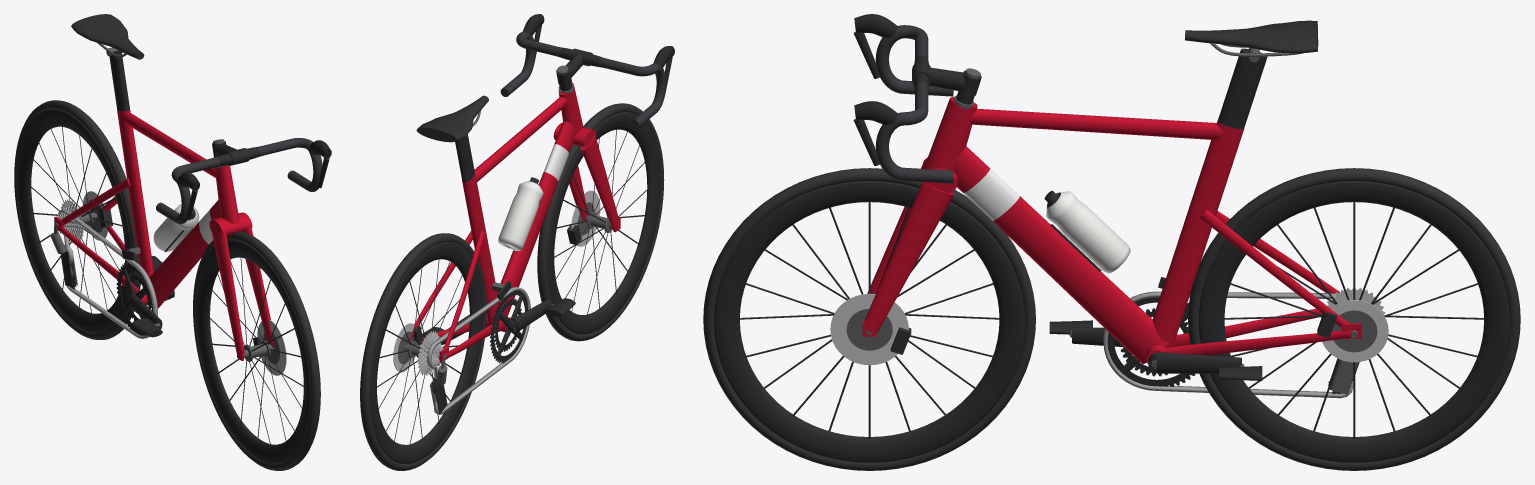
The model's file is Velo_Aero_M.fbx.
3 views of the same model, side by side, from view 1: azimuth 30°, elevation 25°; view 2: azimuth 150°, elevation 25°; view 3: azimuth 270°, elevation 25° (orthographic). The views are drawn at different scales.
Visible parts, largest first — view 1: Cadre_LOD0, RoueAvant_LOD0, RoueArriere_LOD0, Direction_LOD0, Pedalier_LOD0, PedaleD_LOD0; view 2: Cadre_LOD0, RoueArriere_LOD0, RoueAvant_LOD0, Direction_LOD0, Pedalier_LOD0, PedaleD_LOD0; view 3: Cadre_LOD0, RoueAvant_LOD0, RoueArriere_LOD0, Direction_LOD0, Pedalier_LOD0.
Boxes of the visible parts, x1,y1,x2,y2 form: Cadre_LOD0: (50, 14, 239, 338); RoueAvant_LOD0: (193, 231, 320, 470); RoueArriere_LOD0: (14, 100, 141, 339); Direction_LOD0: (156, 138, 331, 360); Pedalier_LOD0: (116, 262, 174, 335); PedaleD_LOD0: (130, 318, 162, 337); Cadre_LOD0: (404, 82, 583, 414); RoueArriere_LOD0: (360, 233, 486, 470); RoueAvant_LOD0: (537, 103, 664, 341); Direction_LOD0: (500, 14, 674, 245); Pedalier_LOD0: (441, 290, 551, 363); PedaleD_LOD0: (544, 298, 575, 316); Cadre_LOD0: (924, 20, 1361, 398); RoueAvant_LOD0: (703, 168, 1035, 470); RoueArriere_LOD0: (1188, 168, 1520, 470); Direction_LOD0: (853, 14, 981, 354); Pedalier_LOD0: (1072, 297, 1241, 386).
Size of what is drawn, in the model's own units: 0.452 by 0.9919 by 1.67.
Materials: 1 (1 with a texture image).
